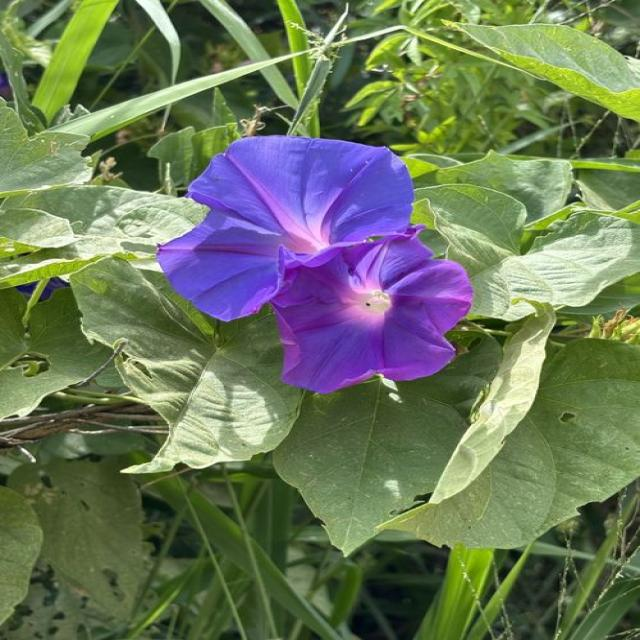ipomoea: (151, 132, 477, 396), (265, 226, 476, 397)
